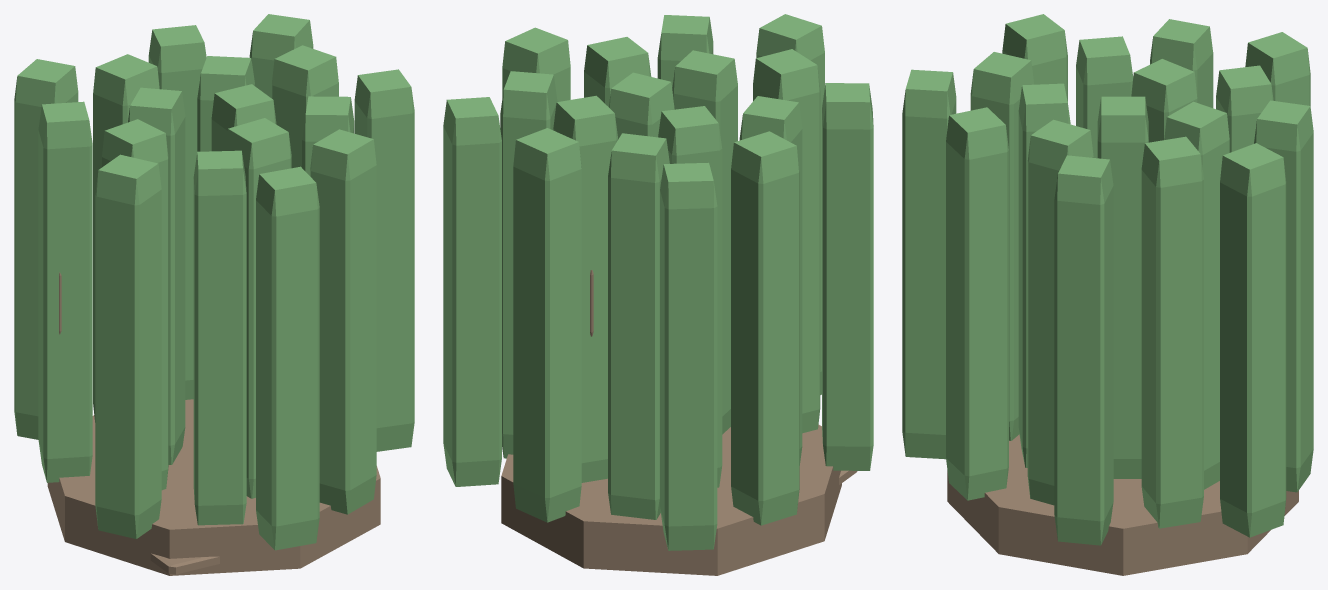
Rendered from b08_fountain_grass.glb.
3 renders of one model, left to right at view 1: azimuth 30°, elevation 25°; view 2: azimuth 150°, elevation 25°; view 3: azimuth 270°, elevation 25°, orthographic. The views are drawn at different scales.
Visible parts, largest first — view 1: b08_fountain_grass; view 2: b08_fountain_grass; view 3: b08_fountain_grass.
Part boxes in pixels (<box>): b08_fountain_grass: <box>14,14,414,575</box>; b08_fountain_grass: <box>443,14,873,575</box>; b08_fountain_grass: <box>902,14,1313,575</box>.
Bounding box in the file's own units: 1.19 × 1.37 × 1.25.
